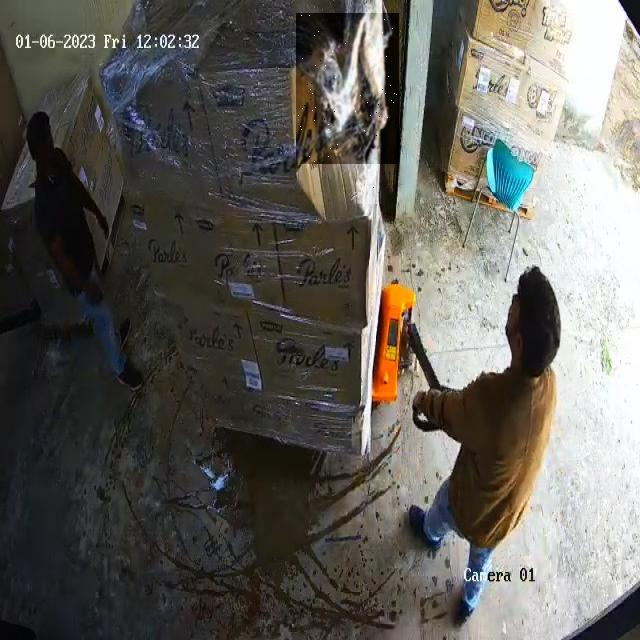leakage: (357, 150, 381, 204)
squeeze: (296, 14, 399, 164)
